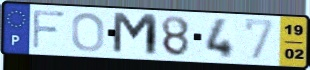4: (204, 17, 238, 61)
7: (242, 17, 278, 63)
8: (160, 15, 191, 58)
F: (31, 8, 68, 51)
M: (111, 11, 160, 58)
O: (70, 11, 107, 53)
